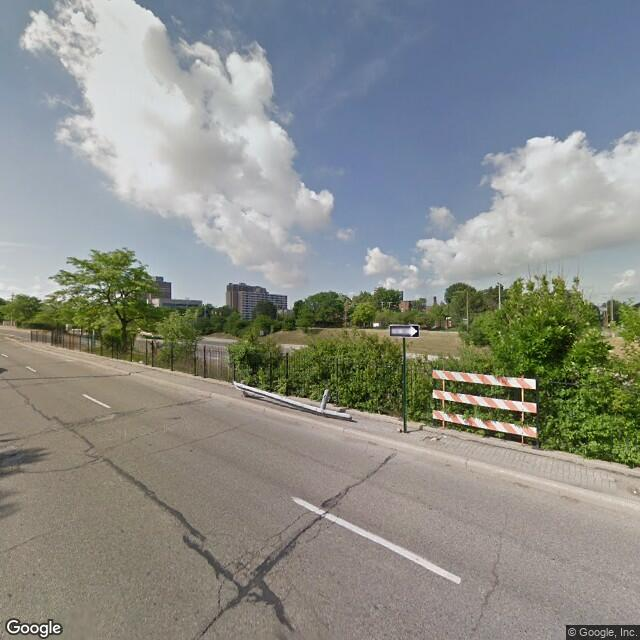litter: (136, 359, 145, 365)
